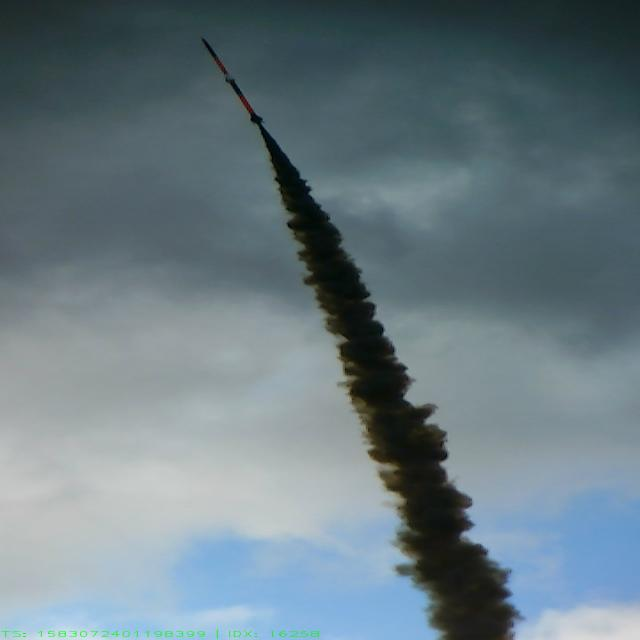Rocket: (200, 37, 264, 123)
